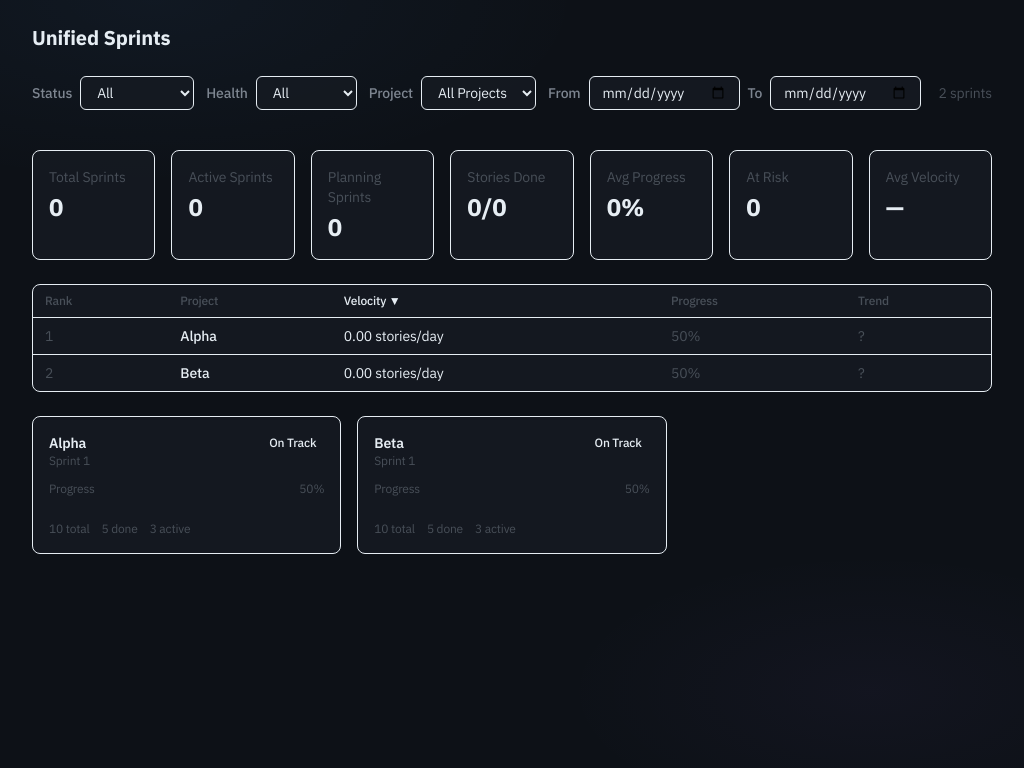
Scenario: UnifiedSprintView › filters sprint cards when status filter is applied
// Filter to active only
Step 1. Select "Active" in the dropdown labelled "Status" → (137, 93), box x1=80 y1=76 x2=194 y2=110
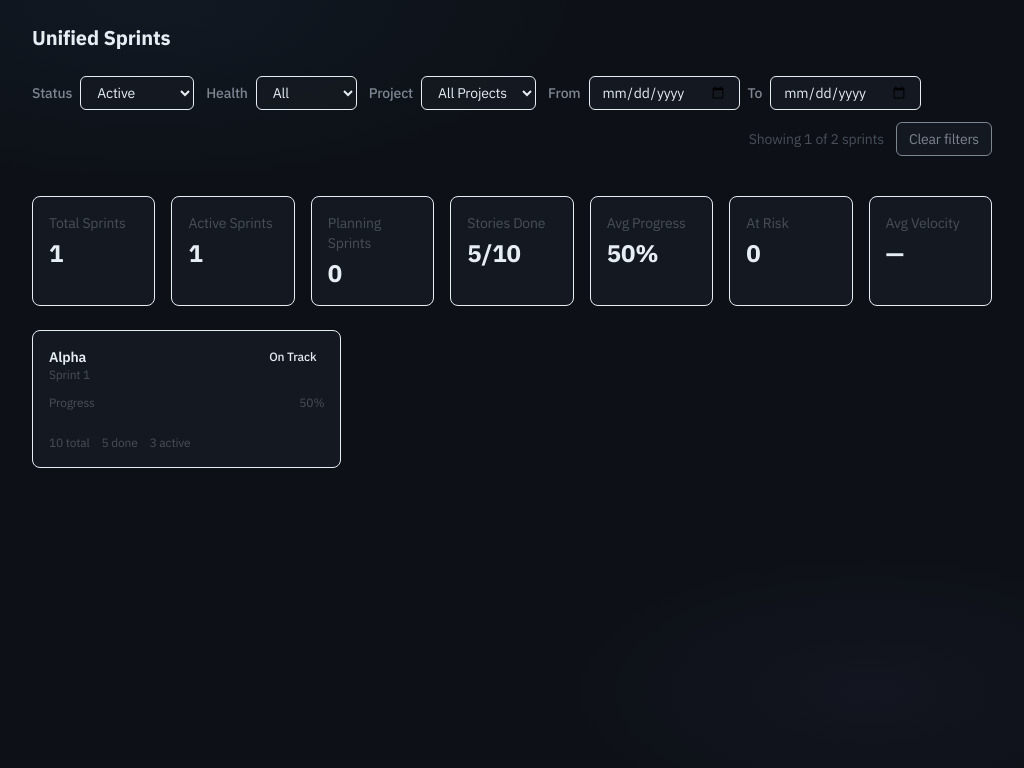
expect the headings read "Alpha", in this order: met, box x1=49 y1=347 x2=90 y2=367
